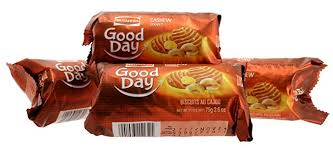gooday-small: (88, 62, 247, 138), (87, 9, 224, 59), (9, 54, 87, 127), (247, 50, 325, 123)
